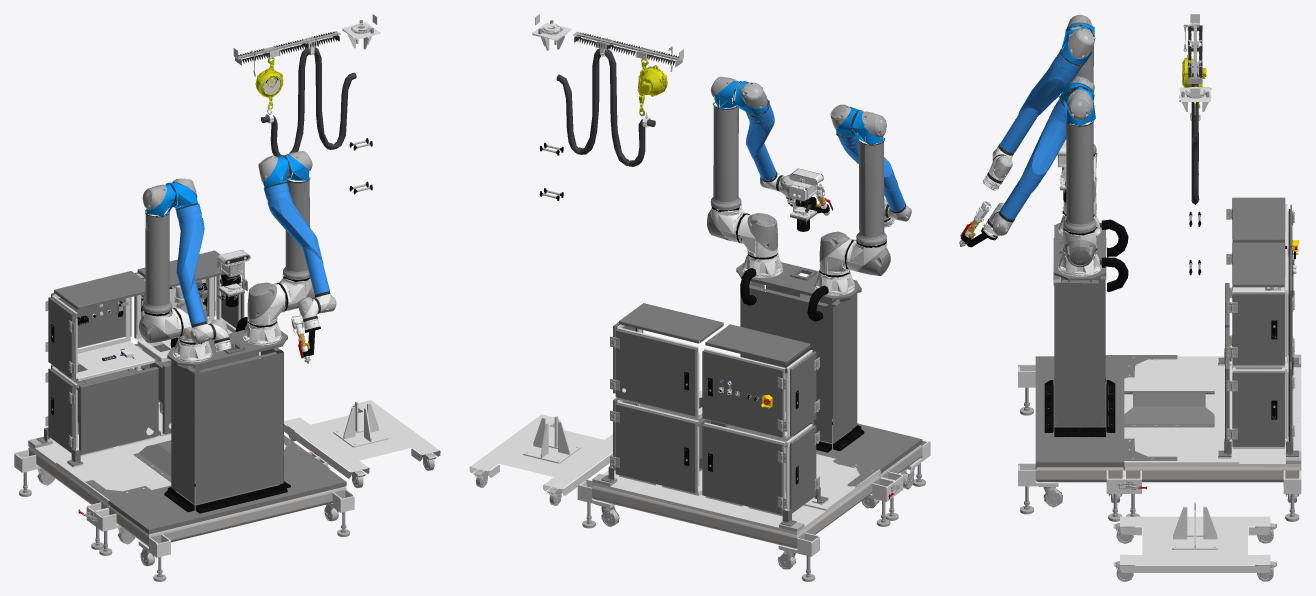
The model's file is fireproofing-robot.glb.
The picture shows the model from 3 angles, left to right: view 1: azimuth 30°, elevation 25°; view 2: azimuth 150°, elevation 25°; view 3: azimuth 270°, elevation 25°; orthographic projection. The views are drawn at different scales.
Visible parts, largest first — view 1: RF_cover_plate_4:1, controller frame side-plate:1, Hose balancer plate_1:1, C_frame_plate:1, robot_base_plate_1:1, RF_cover_plate_3:1, KS D 3568 100 x 100 x 9 - 1420:2, RB20-1900ES_파이프_기본형_R1:1.001, RB20-1900ES_S파이프_기본형_R1:1, RB20-1900ES_S파이프_기본형_R1:1.001, Material hoses RONDO 25 PFT mortar hose RONDO 25:1, controller frame side-plate_2:2 (+21 smaller); view 2: controller frame door-plate_3:2, controller frame door-plate_3:1, controller frame door-plate_2:2, RF_cover_plate_2:1, controller frame door-plate_2-2:1, robot_base_plate_1:1, Hose balancer plate_1:1, RF_cover_plate_3:1, KS D 3568 100 x 100 x 9 - 1420:2.001, RB20-1900ES_파이프_기본형_R1:1, Material hoses RONDO 25 PFT mortar hose RONDO 25:1, RB20-1900ES_파이프_기본형_R1:1.001 (+18 smaller); view 3: robot_base_plate_1:1, RF_cover_plate_3:2, Hose balancer plate_1:1, C_frame_plate:1, controller frame door-plate_5:1, controller frame door-plate_4:1, cable_cover_1:1, RB20-1900ES_파이프_기본형_R1:1, KS D 3568 100 x 100 x 9 - 1000:1, RB20-1900ES_S파이프_기본형_R1:1, controller frame side-plate_2:1, controller frame side-plate_2:2 (+16 smaller).
Boxes of the visible parts, x1,y1,x2,y2 form: RF_cover_plate_4:1: (195, 352, 283, 504); controller frame side-plate:1: (79, 366, 158, 454); Hose balancer plate_1:1: (284, 400, 440, 478); C_frame_plate:1: (108, 455, 346, 534); robot_base_plate_1:1: (28, 427, 298, 504); RF_cover_plate_3:1: (171, 360, 195, 504); KS D 3568 100 x 100 x 9 - 1420:2: (149, 486, 346, 543); RB20-1900ES_파이프_기본형_R1:1.001: (142, 214, 172, 314); RB20-1900ES_S파이프_기본형_R1:1: (264, 183, 329, 294); RB20-1900ES_S파이프_기본형_R1:1.001: (176, 204, 205, 324); Material hoses RONDO 25 PFT mortar hose RONDO 25:1: (261, 47, 356, 156); controller frame side-plate_2:2: (54, 271, 145, 309); controller frame door-plate_3:2: (615, 403, 696, 493); controller frame door-plate_3:1: (702, 424, 783, 514); controller frame door-plate_2:2: (615, 329, 696, 416); RF_cover_plate_2:1: (740, 285, 831, 443); controller frame door-plate_2-2:1: (702, 350, 783, 437); robot_base_plate_1:1: (592, 454, 880, 534); Hose balancer plate_1:1: (469, 414, 612, 495); RF_cover_plate_3:1: (832, 293, 857, 442); KS D 3568 100 x 100 x 9 - 1420:2.001: (592, 485, 797, 548); RB20-1900ES_파이프_기본형_R1:1: (710, 106, 741, 210); Material hoses RONDO 25 PFT mortar hose RONDO 25:1: (556, 48, 655, 166); RB20-1900ES_파이프_기본형_R1:1.001: (856, 140, 886, 245); robot_base_plate_1:1: (1124, 356, 1301, 467); RF_cover_plate_3:2: (1054, 280, 1105, 426); Hose balancer plate_1:1: (1120, 516, 1270, 572); C_frame_plate:1: (1035, 356, 1124, 467); controller frame door-plate_5:1: (1232, 371, 1284, 446); controller frame door-plate_4:1: (1232, 293, 1284, 365); cable_cover_1:1: (1124, 391, 1214, 427); RB20-1900ES_파이프_기본형_R1:1: (1063, 121, 1096, 233); KS D 3568 100 x 100 x 9 - 1000:1: (1124, 467, 1301, 482); RB20-1900ES_S파이프_기본형_R1:1: (1000, 99, 1066, 219); controller frame side-plate_2:1: (1232, 242, 1285, 287); controller frame side-plate_2:2: (1232, 197, 1285, 242).
Size of the model in its own units: 2.51 by 3 by 1.94.
